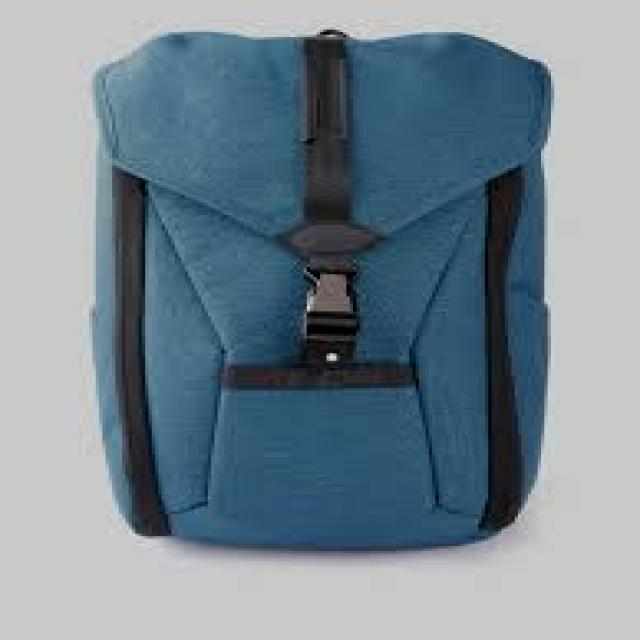backpack: (87, 28, 555, 550)
